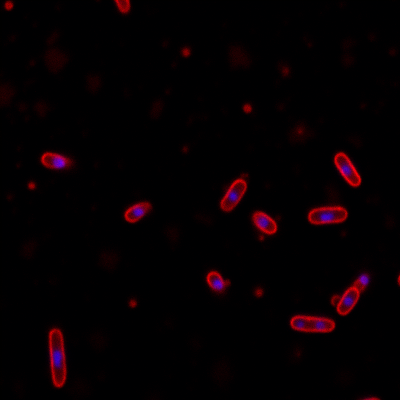CAM: (49, 326, 68, 390), (332, 149, 362, 188), (219, 177, 248, 213), (289, 313, 336, 333), (306, 205, 349, 226)
Oblique: (334, 271, 373, 314), (124, 198, 156, 224), (40, 150, 77, 172), (252, 208, 279, 235), (204, 269, 228, 296)
Vesicle: (180, 43, 192, 59), (241, 100, 253, 115), (293, 124, 306, 137), (252, 284, 264, 298), (279, 63, 291, 76), (3, 0, 15, 13), (26, 180, 37, 192), (180, 142, 191, 154), (128, 296, 138, 309)
